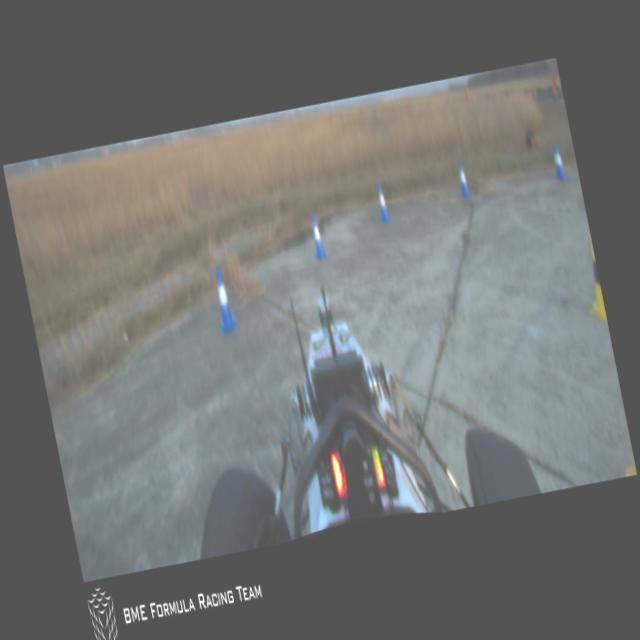blue_cone: (207, 262, 240, 336), (306, 210, 328, 263), (548, 140, 570, 185), (372, 180, 392, 224), (454, 160, 472, 198)
yellow_cone: (576, 236, 608, 324)
